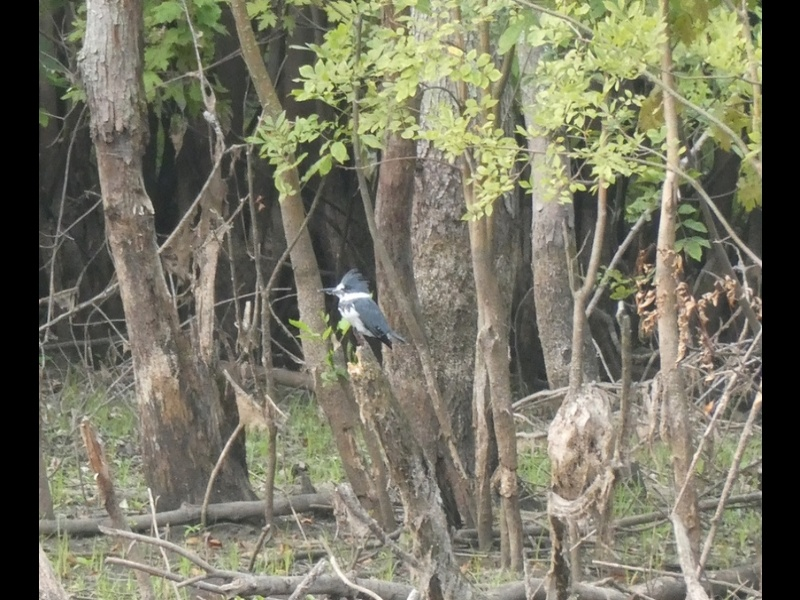kingfisher: (321, 269, 409, 353)
